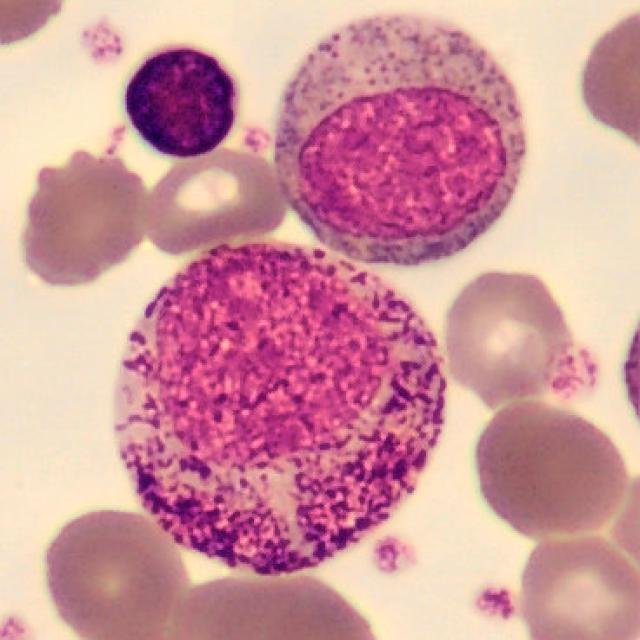Linfocito: (125, 50, 233, 156)
Mielocito: (277, 16, 523, 265)
Promielocito: (117, 244, 442, 573)
